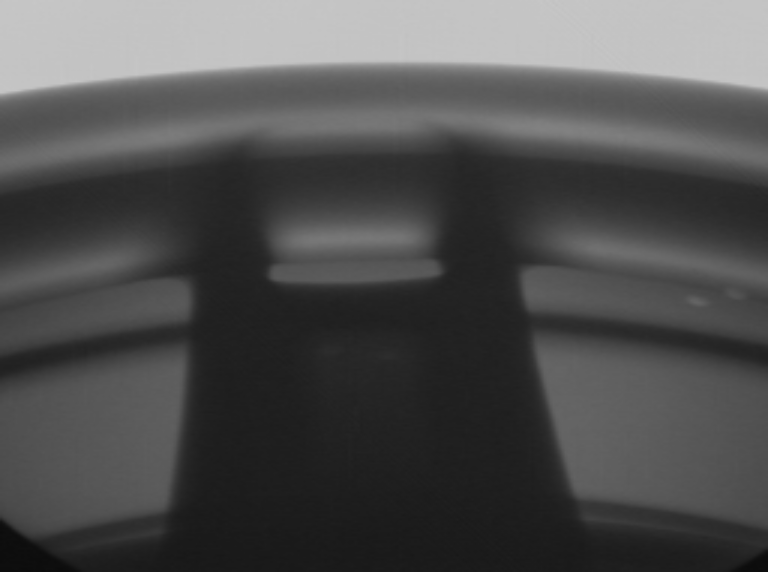defect: (729, 279, 756, 315)
